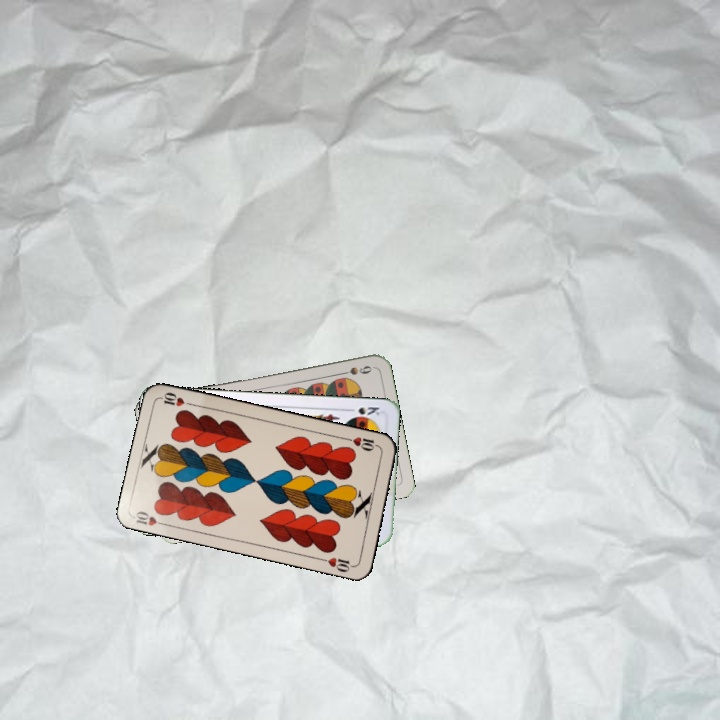H10: (342, 432, 382, 454), (131, 507, 171, 529)
S9: (335, 362, 375, 378)
SK: (343, 403, 382, 418)
